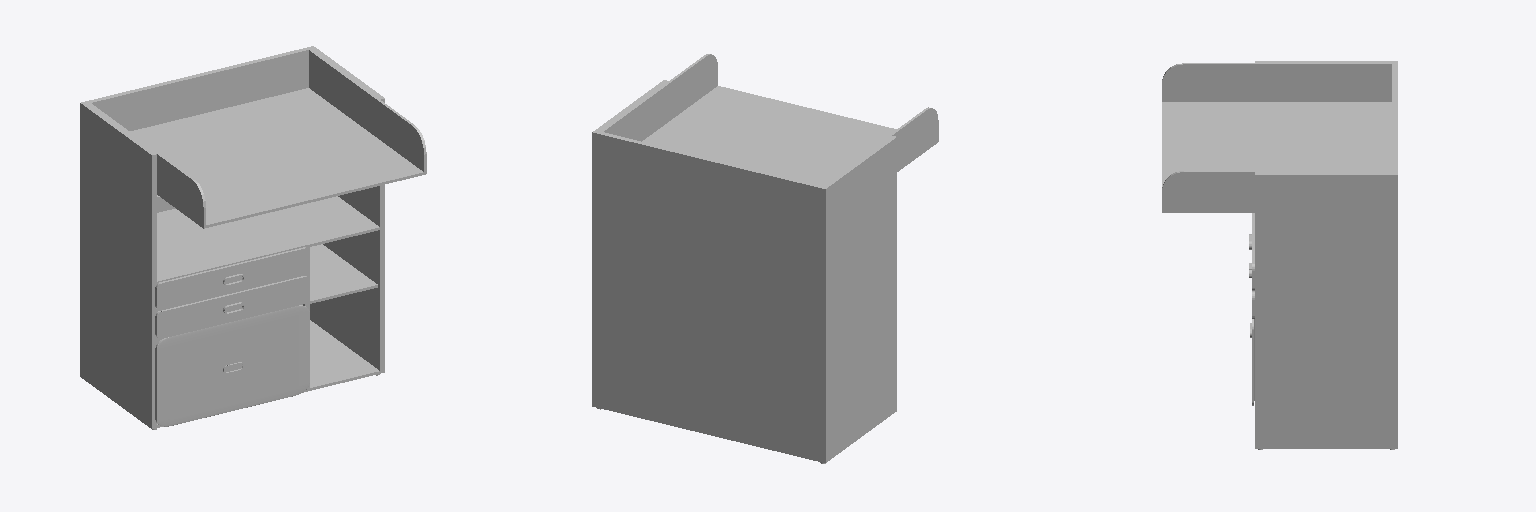
Rendered from ChangingTable_StuvaFritidsRed.obj.
The picture shows the model from 3 angles: view 1: azimuth 30°, elevation 25°; view 2: azimuth 150°, elevation 25°; view 3: azimuth 270°, elevation 25°; orthographic projection.
Visible parts, largest first — view 1: obj_0; view 2: obj_0; view 3: obj_0.
Boxes of the visible parts, <box> form: obj_0: <box>80,46,426,429</box>; obj_0: <box>592,54,938,463</box>; obj_0: <box>1162,61,1397,449</box>.
Size of the model in its own units: 90 by 102 by 79.